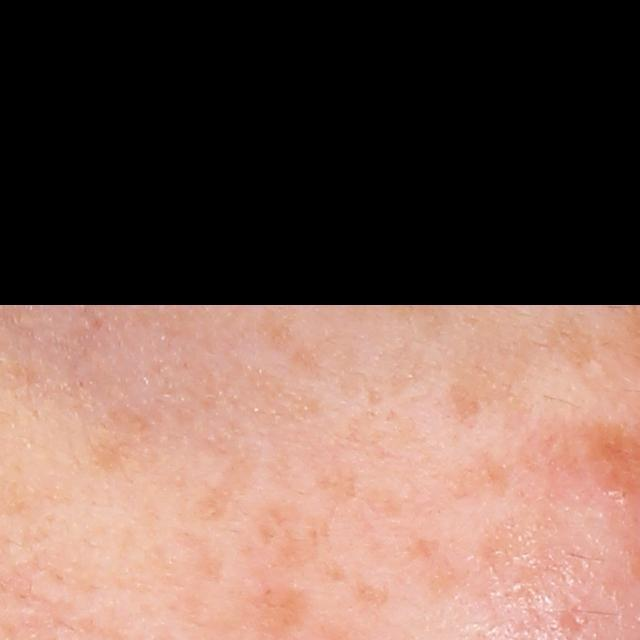melasma: (257, 286, 557, 432), (475, 502, 571, 609), (253, 495, 349, 586), (374, 533, 479, 607), (191, 447, 269, 528), (83, 405, 158, 479), (440, 446, 521, 502), (305, 463, 358, 517), (366, 486, 418, 521), (349, 575, 393, 613)
